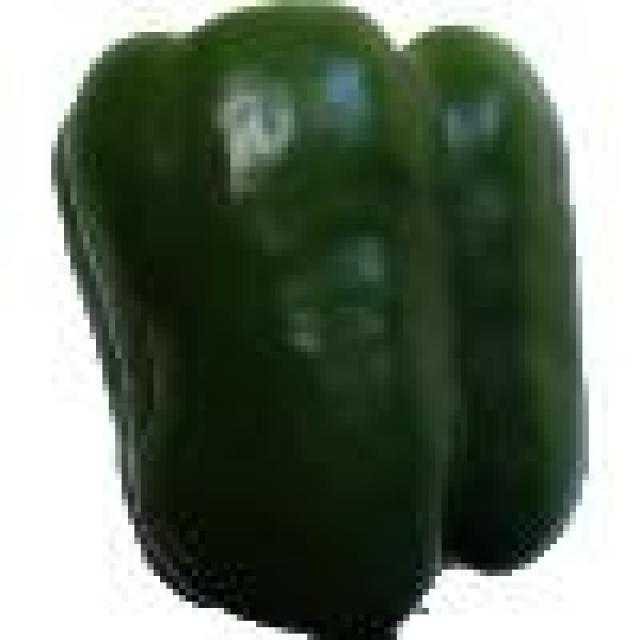Bell Pepper: (58, 6, 582, 634)
